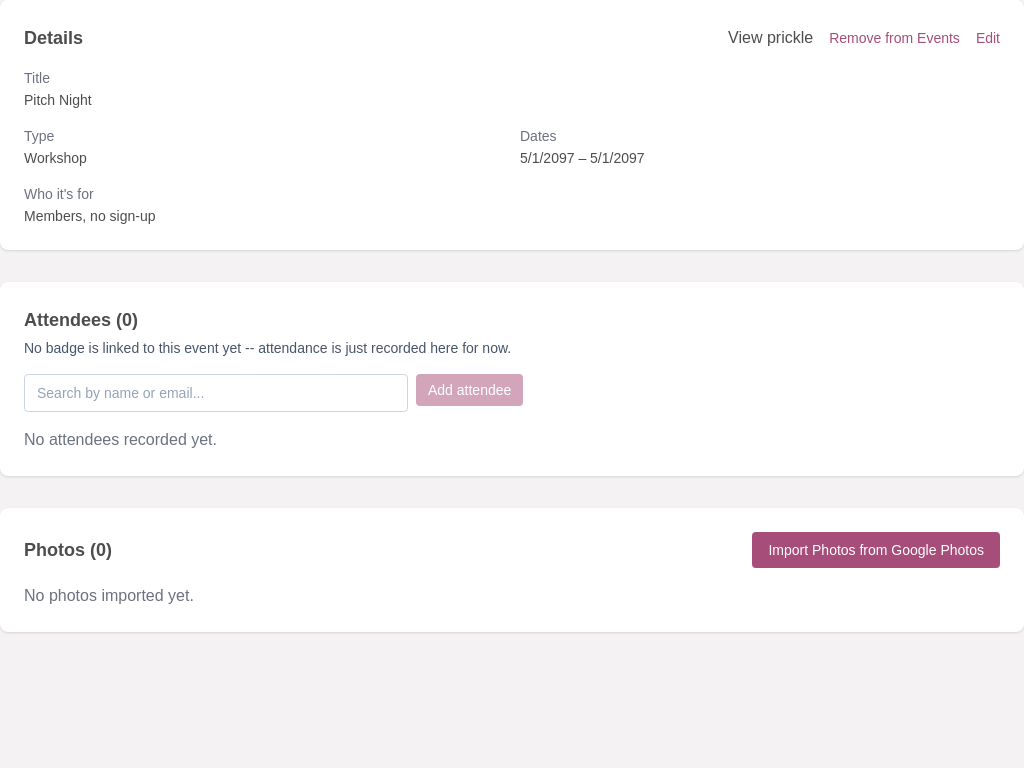
Scenario: hiding an event from members › hides a shown event and offers to show it again
Click the button "Remove from Events": x=895, y=38 [829,26,960,50]
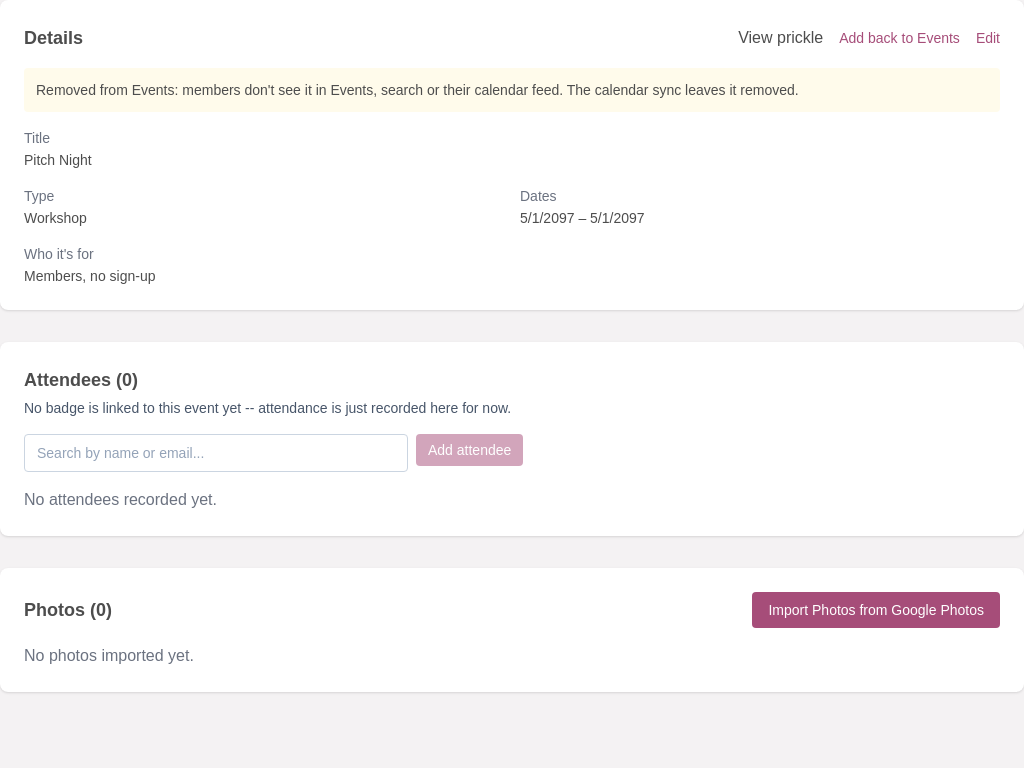
Expected: the text "Removed from Events: members don't see it" is shown, [36,82,563,98]
Expected: the button "Add back to Events" is shown, [839,26,960,50]
